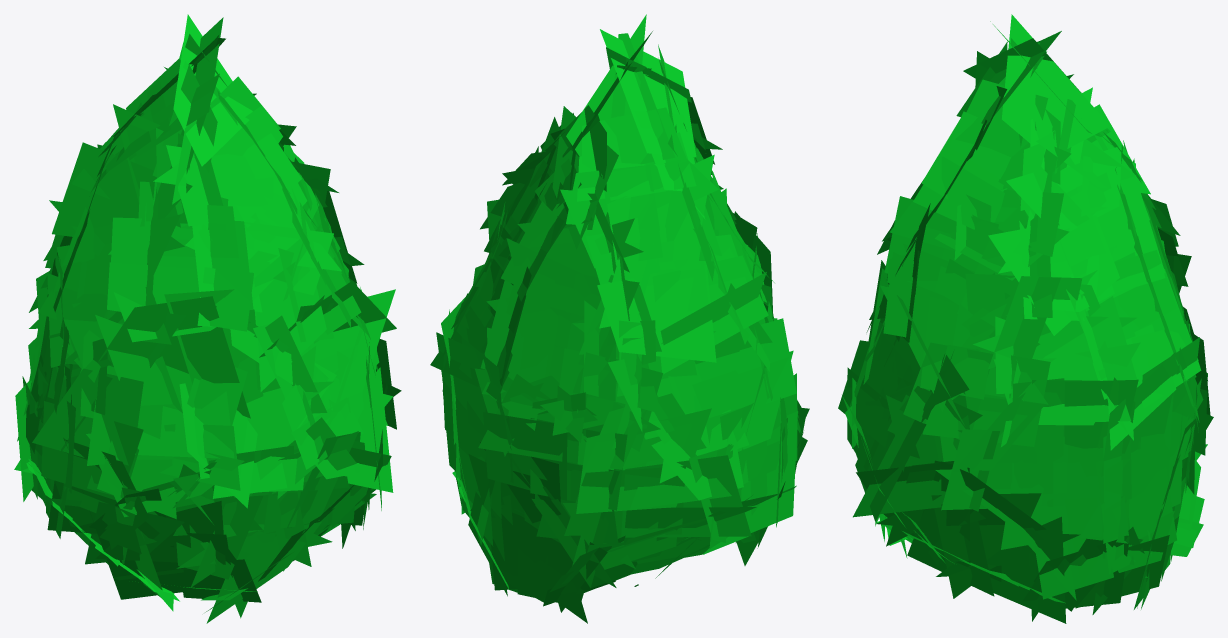
File: northern-white-cedar-v2.fbx
3 renders of one model, left to right at view 1: azimuth 30°, elevation 25°; view 2: azimuth 150°, elevation 25°; view 3: azimuth 270°, elevation 25°, orthographic. The views are drawn at different scales.
Parts seen in each view (by area): view 1: Cube.239, Cube.138, Cube.230, Cube.146, Cube.132, Cube.180, Cube.430, Cube.418, Cube.327, Cube.152, Cube.166, Cube.319 (+76 smaller); view 2: Cube.053, Cube.225, Cube.426, Cube.421, Cube.283, Cube.123, Cube.212, Cube.245, Cube.202, Cube.278, Cube.210, Cube.228 (+78 smaller); view 3: Cube.062, Cube.096, Cube.339, Cube.415, Cube.083, Cube.373, Cube.106, Cube.101, Cube.072, Cube.315, Cube.089, Cube.003 (+76 smaller).
Part boxes in pixels (x1,y1,x2,y2): Cube.239: [98, 296, 250, 418]; Cube.138: [52, 142, 192, 236]; Cube.230: [32, 368, 143, 471]; Cube.146: [107, 262, 253, 331]; Cube.132: [95, 315, 247, 425]; Cube.180: [254, 238, 326, 391]; Cube.430: [111, 217, 253, 309]; Cube.418: [166, 145, 267, 226]; Cube.327: [246, 345, 316, 492]; Cube.152: [173, 14, 252, 166]; Cube.166: [295, 289, 395, 416]; Cube.319: [135, 391, 234, 458]; Cube.053: [597, 264, 716, 362]; Cube.225: [692, 350, 793, 451]; Cube.426: [483, 412, 567, 500]; Cube.421: [621, 455, 751, 537]; Cube.283: [600, 29, 696, 157]; Cube.123: [694, 318, 796, 412]; Cube.212: [576, 408, 711, 513]; Cube.245: [652, 255, 768, 374]; Cube.202: [741, 411, 797, 532]; Cube.278: [601, 159, 718, 219]; Cube.210: [581, 393, 706, 477]; Cube.228: [491, 512, 550, 590]; Cube.062: [1002, 14, 1110, 154]; Cube.096: [965, 273, 1060, 358]; Cube.339: [941, 429, 1053, 510]; Cube.415: [1043, 296, 1136, 380]; Cube.083: [922, 344, 1050, 446]; Cube.373: [920, 296, 995, 399]; Cube.106: [913, 156, 1004, 229]; Cube.101: [883, 252, 955, 340]; Cube.072: [931, 493, 1041, 598]; Cube.315: [990, 516, 1066, 623]; Cube.089: [853, 415, 941, 517]; Cube.003: [1101, 467, 1176, 574].
Size of the model in its own units: 398 by 641 by 391.
